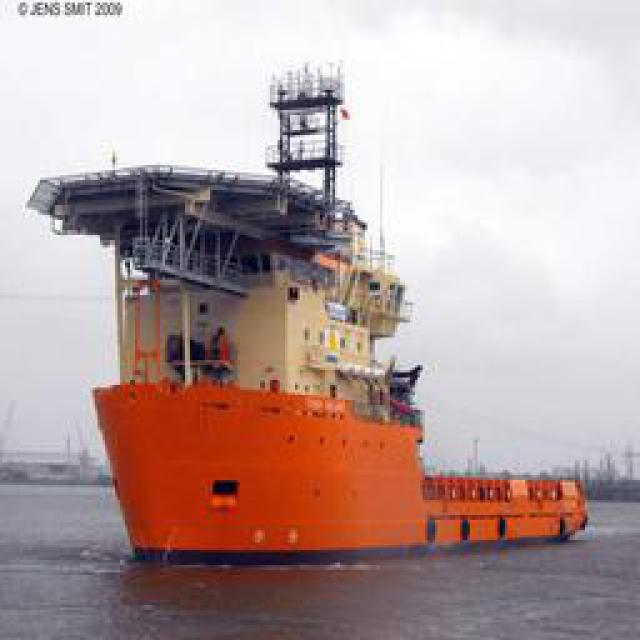Ship: (72, 59, 510, 569)
